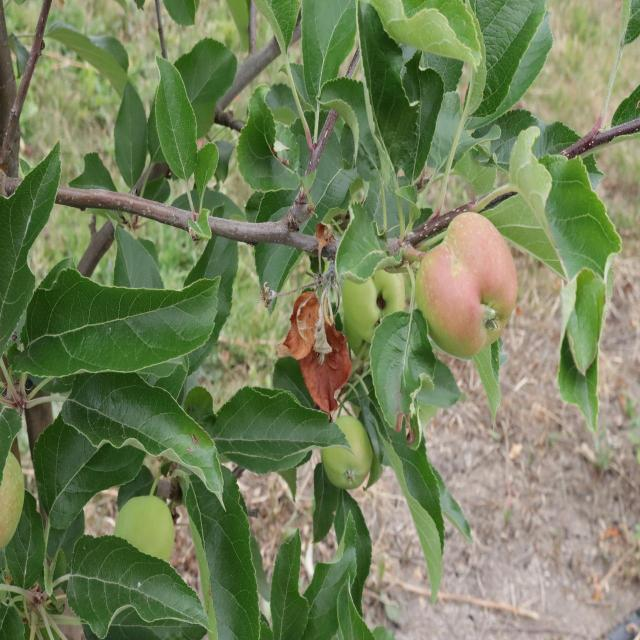-FireBlight-: (286, 286, 354, 411)
